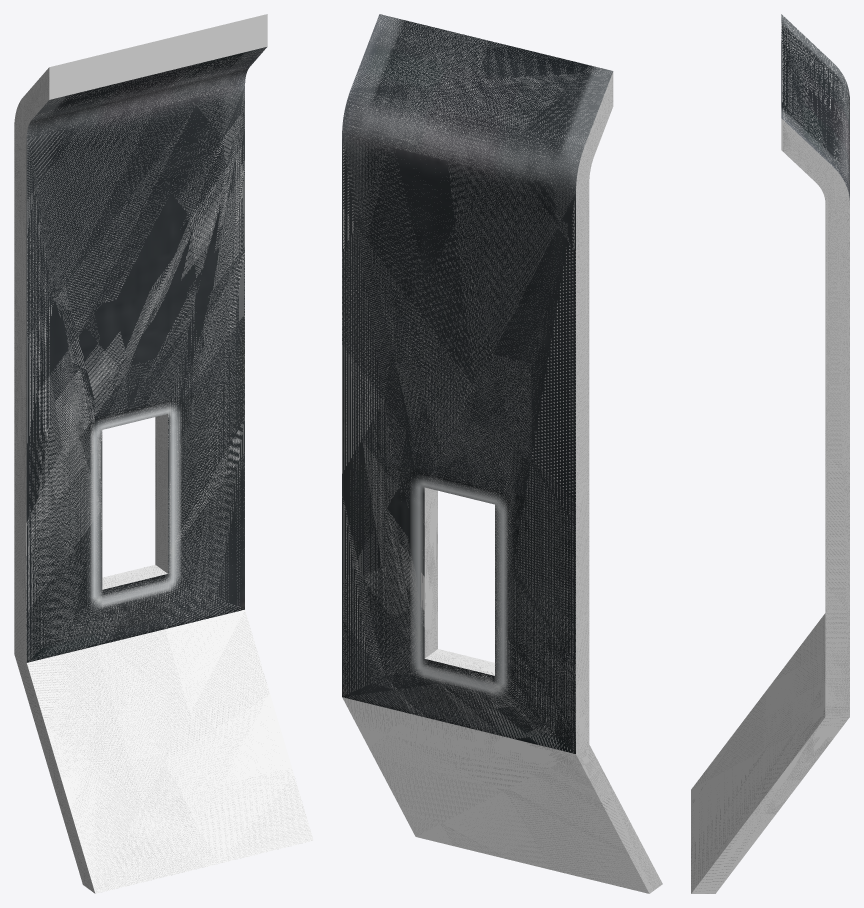
The picture shows the model from 3 angles, left to right: view 1: azimuth 30°, elevation 25°; view 2: azimuth 150°, elevation 25°; view 3: azimuth 270°, elevation 25°; orthographic projection. The views are drawn at different scales.
Size of the model in its own units: 0.2161 by 0.7499 by 0.1392.
Materials: 3 (1 with a texture image).
